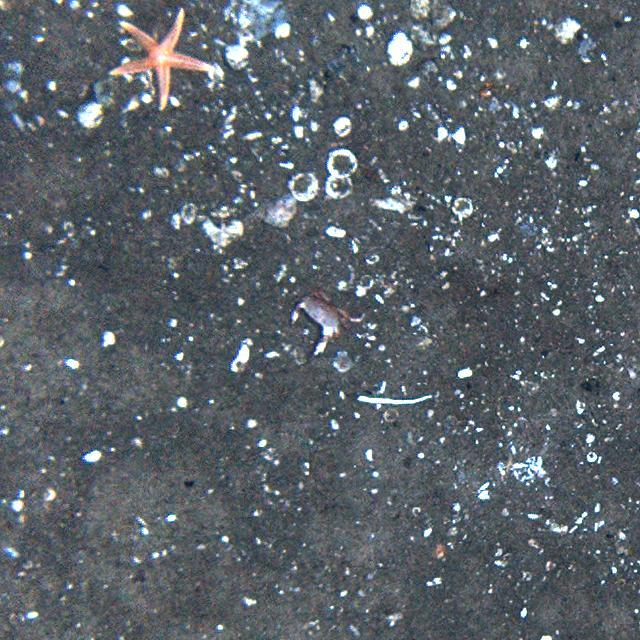crab: (289, 286, 367, 356)
